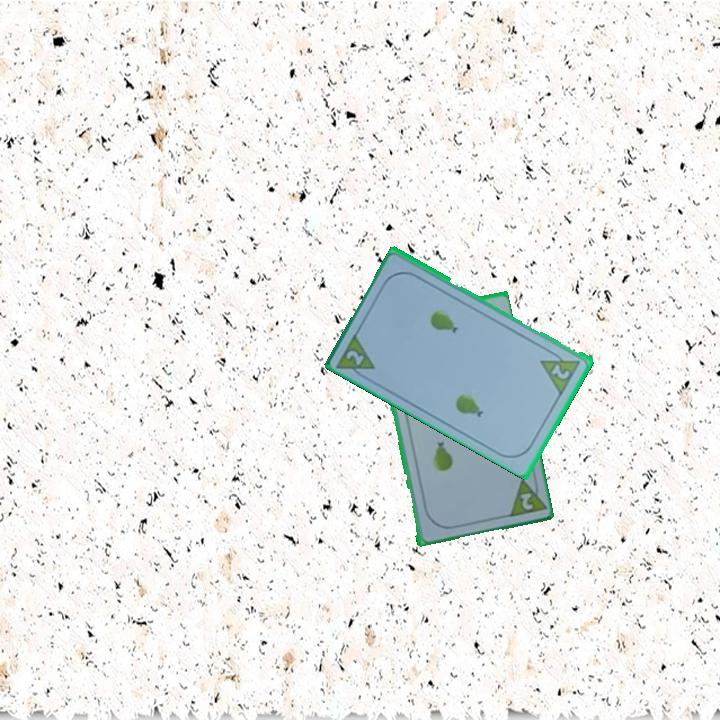2p: (548, 360, 573, 382), (343, 346, 367, 368), (516, 489, 535, 513)
